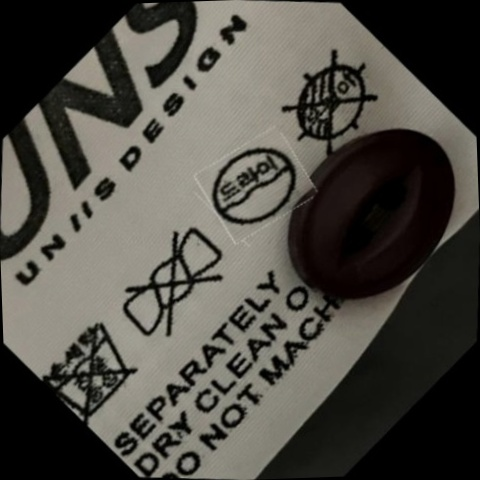DN_dry: (280, 52, 380, 154)
DN_wring: (117, 229, 230, 342)
dry_clean: (210, 139, 301, 233)
hand_wash: (46, 314, 140, 418)
